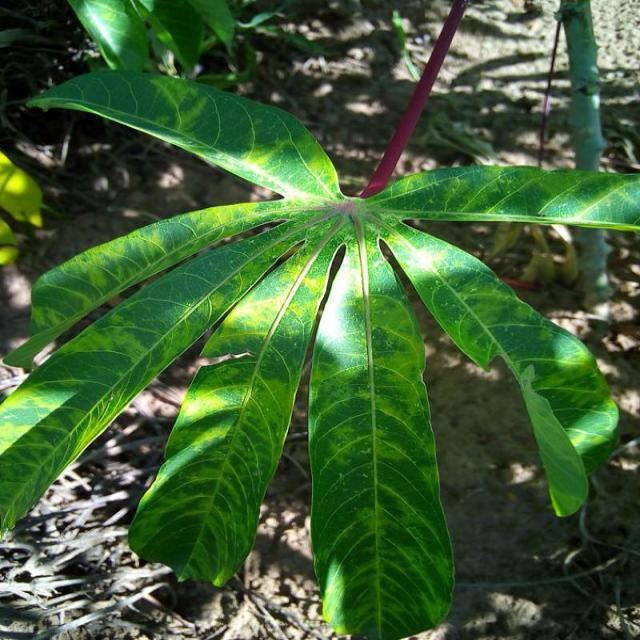cassava leaf: (2, 2, 638, 637), (307, 220, 456, 638)
